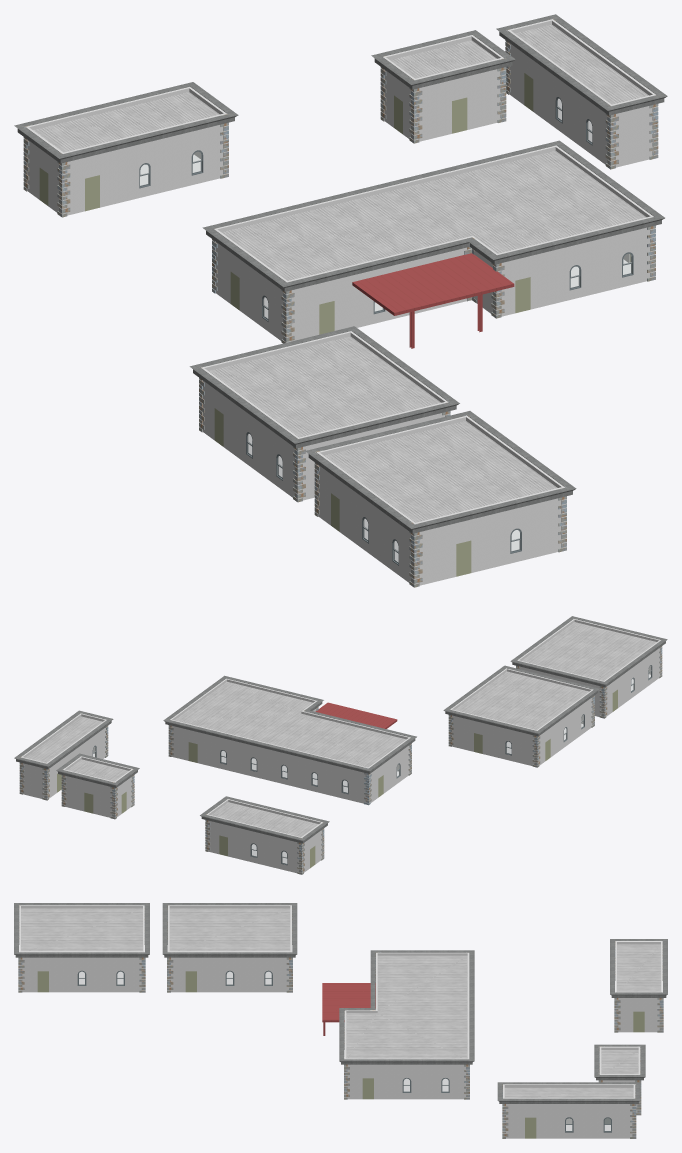
File: Plan(REF)_levels(1)_window(W Arch Head 23_3-5)_wall(WAFRA WALL)_quoin(Y)_cornice(Y).fbx
The picture shows the model from 3 angles, top to bottom: view 1: azimuth 30°, elevation 25°; view 2: azimuth 150°, elevation 25°; view 3: azimuth 270°, elevation 25°; orthographic projection. The views are drawn at different scales.
Visible parts, largest first — view 1: WAFRA Stucco - White Rough 23, WAFRA Roof - Corrugated Sheet Matte 23, Concrete - Structural, WAFRA Stone - Slate Natural 23, WAFRA Roof - Standing Seam Red Coat 23, Color - Beige, Metal - Finish - Aluminum, Color - White, Glass - Clear; view 2: WAFRA Stucco - White Rough 23, WAFRA Roof - Corrugated Sheet Matte 23, Concrete - Structural, WAFRA Stone - Slate Natural 23, Color - Beige, WAFRA Roof - Standing Seam Red Coat 23, Metal - Finish - Aluminum, Glass - Clear, Color - White; view 3: WAFRA Roof - Corrugated Sheet Matte 23, WAFRA Stucco - White Rough 23, Concrete - Structural, WAFRA Stone - Slate Natural 23, WAFRA Roof - Standing Seam Red Coat 23, Color - Beige, Metal - Finish - Aluminum, Glass - Clear, Color - White.
Part boxes in pixels (bbox=[...]): WAFRA Stucco - White Rough 23: bbox=[25, 19, 656, 585]; WAFRA Roof - Corrugated Sheet Matte 23: bbox=[33, 24, 648, 522]; Concrete - Structural: bbox=[14, 14, 667, 533]; WAFRA Stone - Slate Natural 23: bbox=[23, 18, 658, 587]; WAFRA Roof - Standing Seam Red Coat 23: bbox=[352, 253, 514, 348]; Color - Beige: bbox=[39, 73, 630, 576]; Metal - Finish - Aluminum: bbox=[139, 97, 633, 565]; Color - White: bbox=[24, 41, 657, 584]; Glass - Clear: bbox=[140, 98, 631, 561]; WAFRA Stucco - White Rough 23: bbox=[21, 619, 661, 873]; WAFRA Roof - Corrugated Sheet Matte 23: bbox=[25, 622, 656, 836]; Concrete - Structural: bbox=[14, 616, 667, 843]; WAFRA Stone - Slate Natural 23: bbox=[19, 618, 662, 874]; Color - Beige: bbox=[57, 689, 617, 868]; WAFRA Roof - Standing Seam Red Coat 23: bbox=[315, 702, 397, 728]; Metal - Finish - Aluminum: bbox=[92, 665, 652, 865]; Glass - Clear: bbox=[93, 666, 650, 863]; Color - White: bbox=[20, 647, 661, 872]; WAFRA Roof - Corrugated Sheet Matte 23: bbox=[21, 908, 660, 1097]; WAFRA Stucco - White Rough 23: bbox=[19, 905, 662, 1138]; Concrete - Structural: bbox=[14, 903, 667, 1103]; WAFRA Stone - Slate Natural 23: bbox=[18, 905, 663, 1138]; WAFRA Roof - Standing Seam Red Coat 23: bbox=[322, 983, 375, 1035]; Color - Beige: bbox=[37, 971, 644, 1138]; Metal - Finish - Aluminum: bbox=[77, 970, 611, 1132]; Glass - Clear: bbox=[79, 972, 610, 1130]; Color - White: bbox=[18, 948, 662, 1136].
Bounding box in the file's own units: 4244 × 5930 × 400.
Materials: 13 (6 with a texture image).
